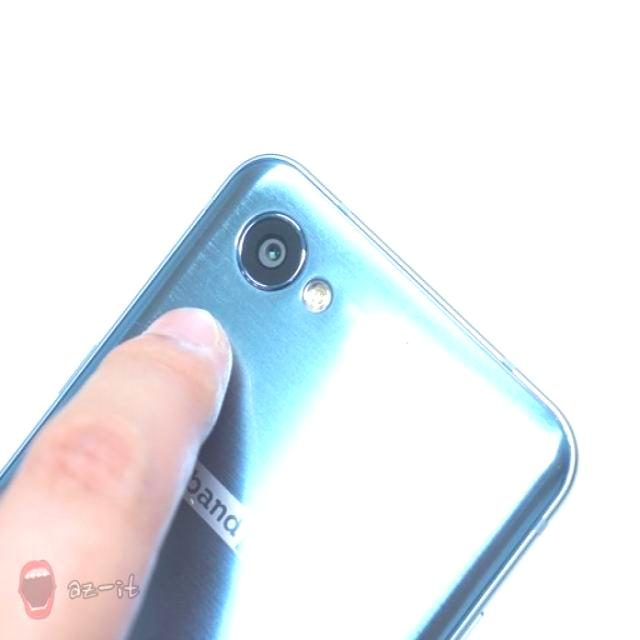lens: (219, 188, 328, 310)
phone: (0, 151, 581, 640)
